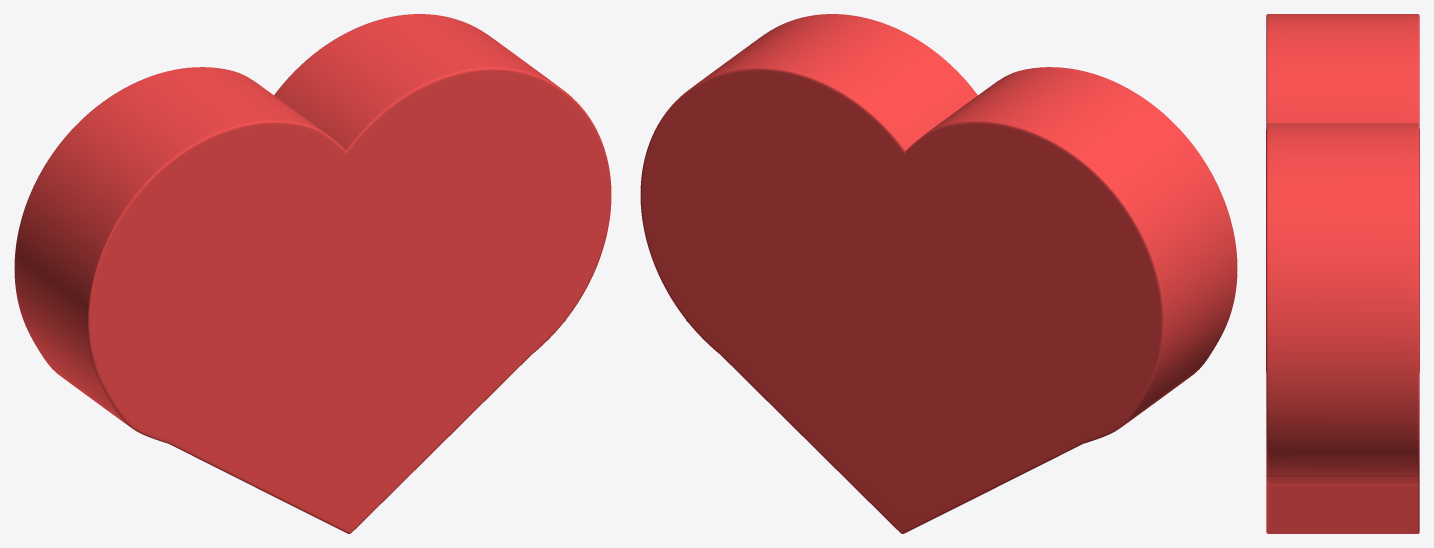
The model's file is heart.obj.
3 views of the same model, side by side, from view 1: azimuth 30°, elevation 25°; view 2: azimuth 150°, elevation 25°; view 3: azimuth 270°, elevation 25° (orthographic). The views are drawn at different scales.
Visible parts, largest first — view 1: cylinder; view 2: cylinder; view 3: cylinder.
Part boxes in pixels (x1=…): cylinder: x1=14, y1=14, x2=611, y2=533; cylinder: x1=640, y1=14, x2=1237, y2=533; cylinder: x1=1266, y1=14, x2=1419, y2=533.
Bounding box in the file's own units: 3.4 × 2.7 × 0.8405.
